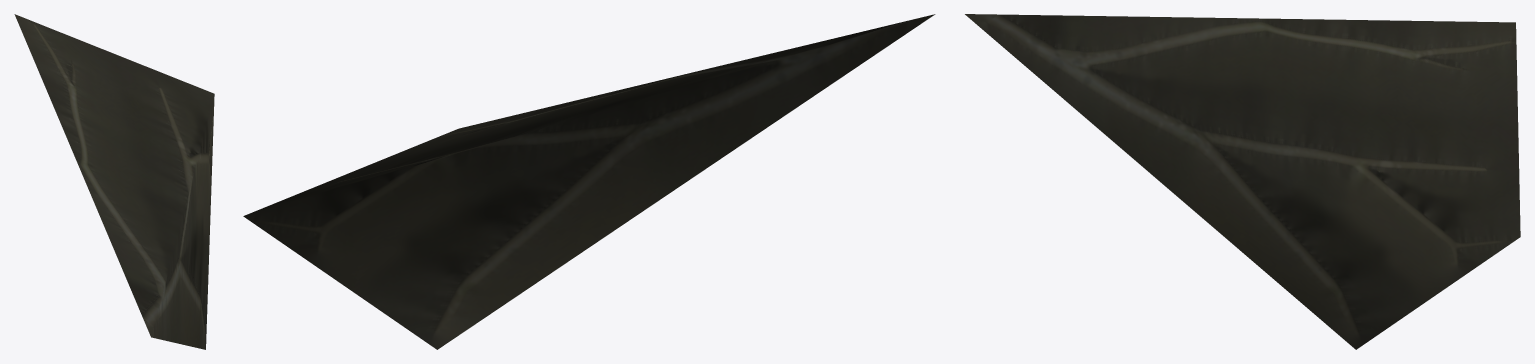
Rendered from FO_UnderBrush_01_Part_02.fbx.
3 views of the same model, side by side, from view 1: azimuth 30°, elevation 25°; view 2: azimuth 150°, elevation 25°; view 3: azimuth 270°, elevation 25° (orthographic). The views are drawn at different scales.
Parts seen in each view (by area): view 1: FO_UnderBrush_01_Part_02; view 2: FO_UnderBrush_01_Part_02; view 3: FO_UnderBrush_01_Part_02.
Boxes of the visible parts, x1,y1,x2,y2 form: FO_UnderBrush_01_Part_02: (14,14,214,349); FO_UnderBrush_01_Part_02: (243,14,935,349); FO_UnderBrush_01_Part_02: (965,14,1520,349).
Size of the model in its own units: 0.6451 by 0.5103 by 0.9211.
